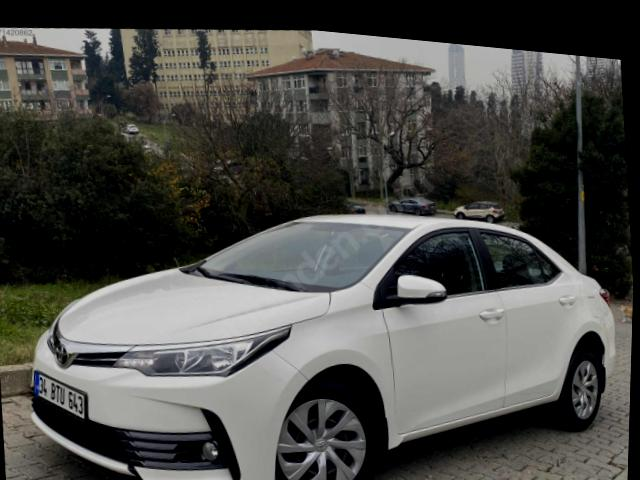plaka: (34, 372, 86, 422)
